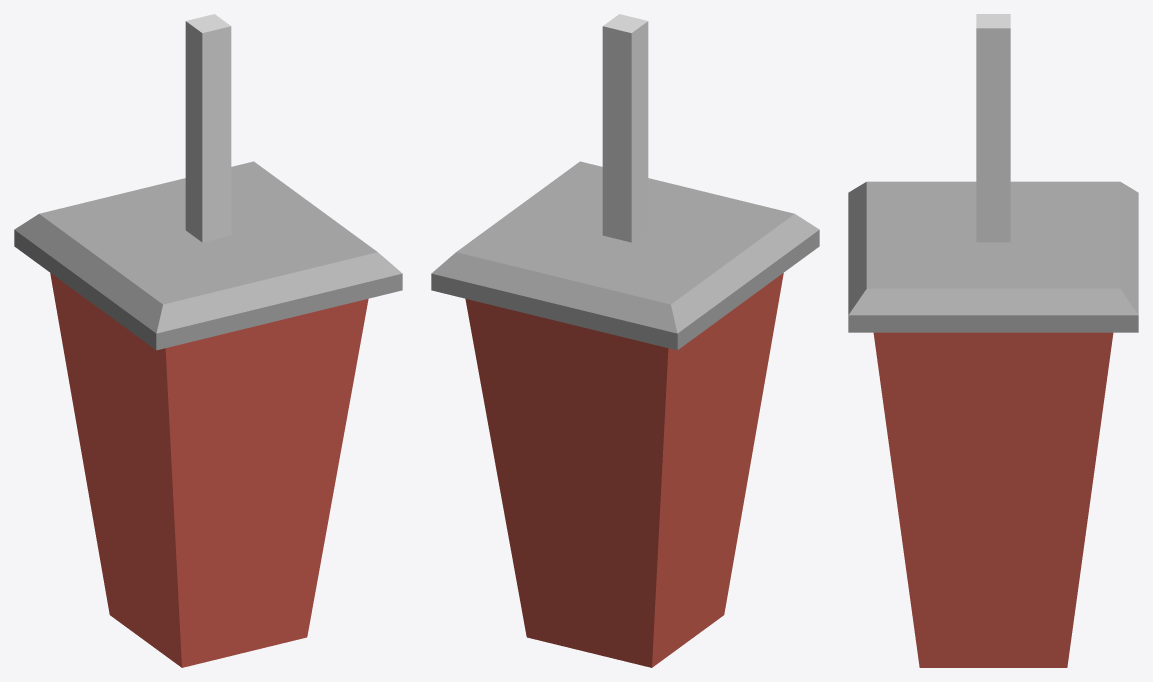
File: Paper Bottle.fbx
The picture shows the model from 3 angles, left to right: view 1: azimuth 30°, elevation 25°; view 2: azimuth 150°, elevation 25°; view 3: azimuth 270°, elevation 25°; orthographic projection. The views are drawn at different scales.
Visible parts, largest first — view 1: Paper Bottle; view 2: Paper Bottle; view 3: Paper Bottle.
Part boxes in pixels (left/top/right/bottom): Paper Bottle: left=14, top=14, right=402, bottom=667; Paper Bottle: left=431, top=14, right=819, bottom=667; Paper Bottle: left=848, top=14, right=1138, bottom=667.
Bounding box in the file's own units: 71.06 × 166 × 71.06.
